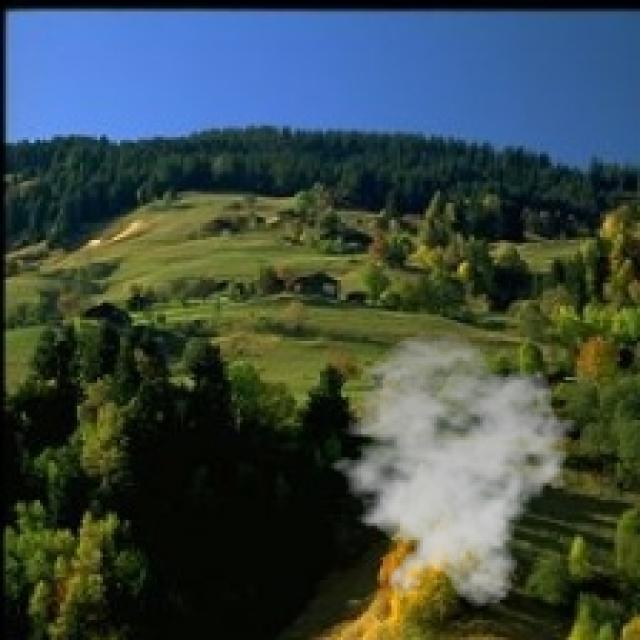Smoke: (317, 332, 583, 608)
